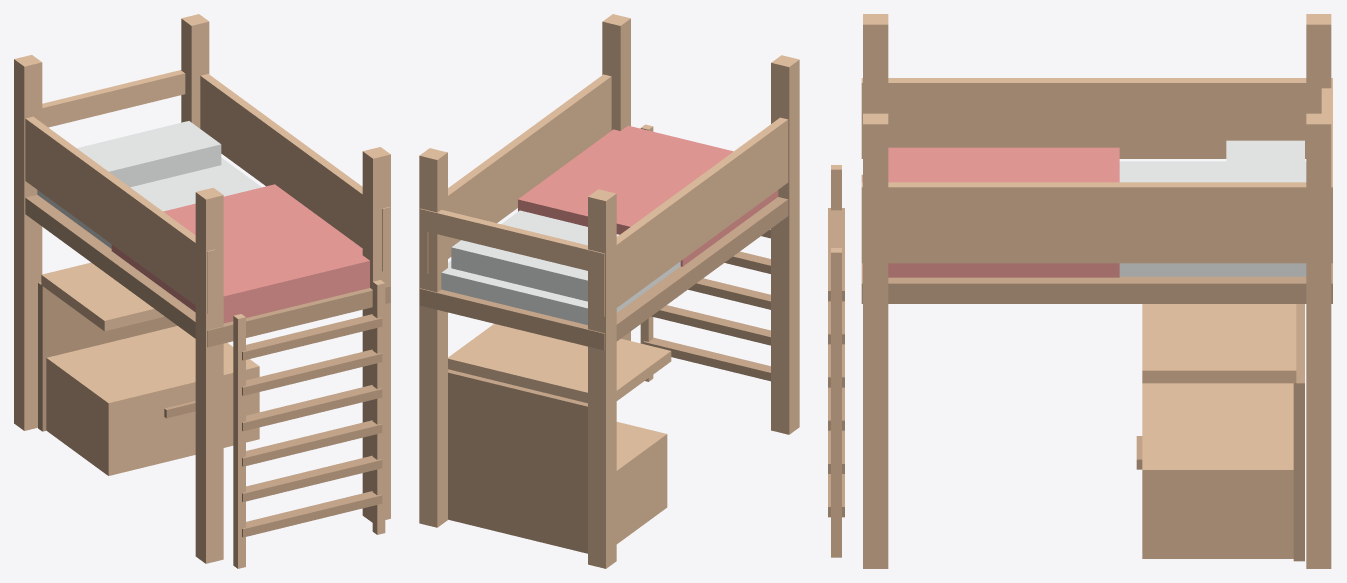
The model's file is bedLoftKids.glb.
The picture shows the model from 3 angles, left to right: view 1: azimuth 30°, elevation 25°; view 2: azimuth 150°, elevation 25°; view 3: azimuth 270°, elevation 25°; orthographic projection. The views are drawn at different scales.
Visible parts, largest first — view 1: bedLoftKids; view 2: bedLoftKids; view 3: bedLoftKids.
Boxes of the visible parts, x1,y1,x2,y2 form: bedLoftKids: [14, 14, 390, 568]; bedLoftKids: [419, 14, 799, 568]; bedLoftKids: [828, 14, 1332, 568].
Size of the model in its own units: 0.465 by 0.875 by 0.9.
